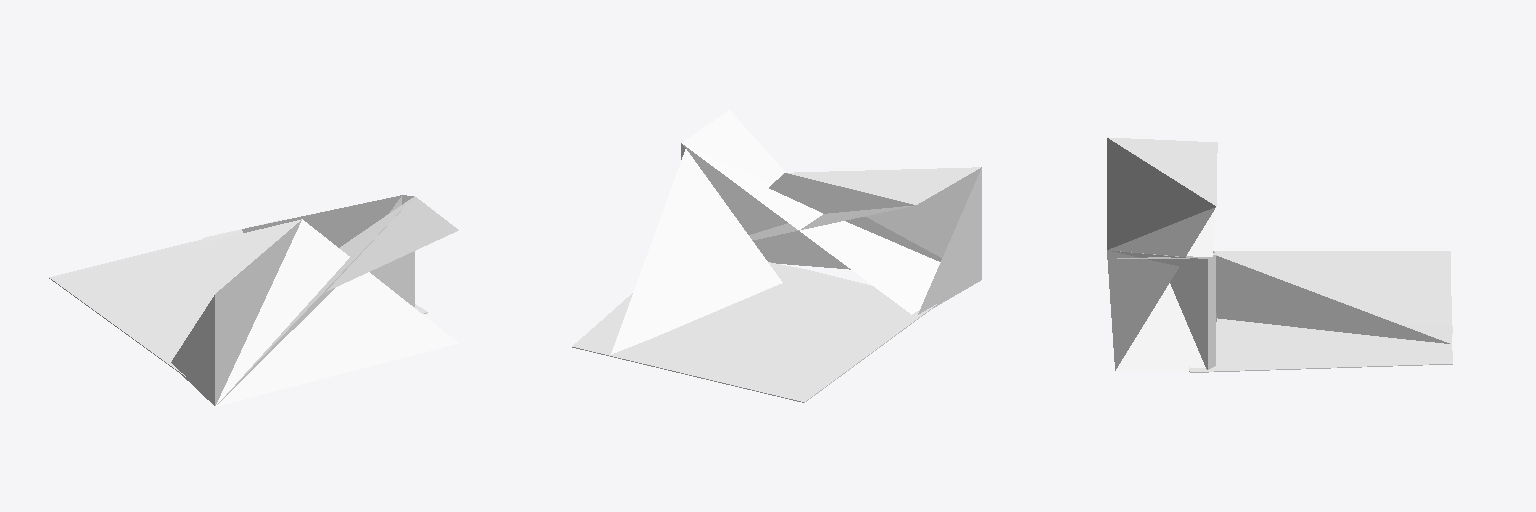
File: world.obj
3 renders of one model, left to right at view 1: azimuth 30°, elevation 25°; view 2: azimuth 150°, elevation 25°; view 3: azimuth 270°, elevation 25°, orthographic.
Visible parts, largest first — view 1: world; view 2: world; view 3: world.
Part boxes in pixels (bbox=[...]): world: bbox=[49, 195, 458, 406]; world: bbox=[572, 110, 981, 402]; world: bbox=[1107, 137, 1452, 372].
Size of the model in its own units: 30.09 by 12.75 by 35.43.